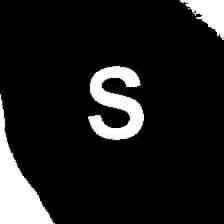LTR_S: (84, 62, 145, 142)
